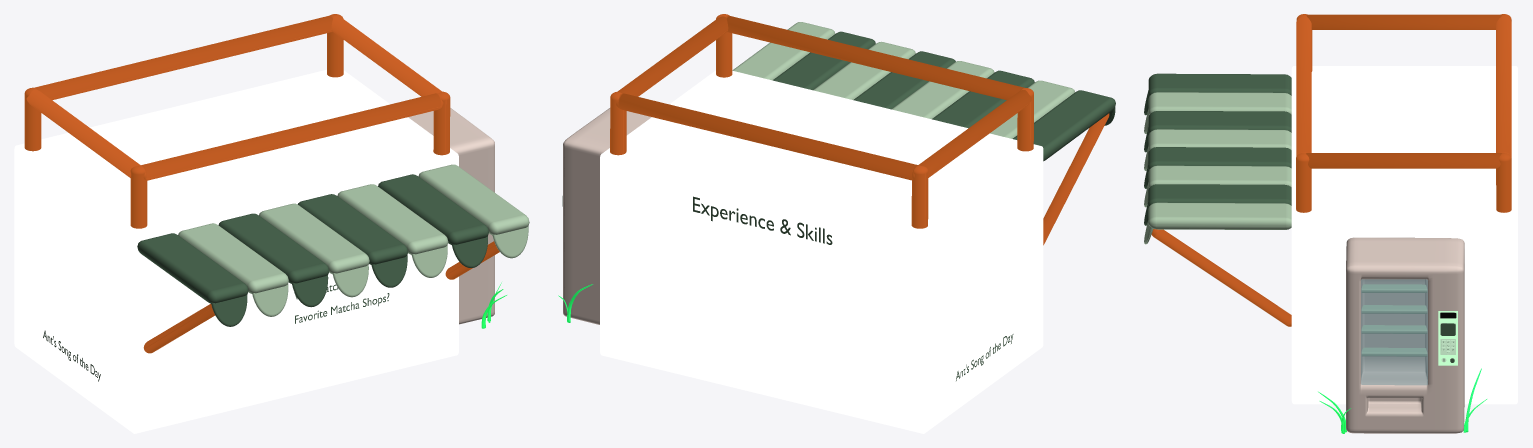
File: MatchaShop.glb
3 views of the same model, side by side, from view 1: azimuth 30°, elevation 25°; view 2: azimuth 150°, elevation 25°; view 3: azimuth 270°, elevation 25° (orthographic). The views are drawn at different scales.
Parts seen in each view (by area): view 1: Cube_6, Cylinder_14.005, Cylinder_14.006, Vending_machine_base, Cube_3, Cube_5, Cube_5_1, Cube_5_3, Cube_2, Cube_4, Cube_4_1, Cube_5_2 (+15 smaller); view 2: Cube_6, Vending_machine_base, Cylinder_14.006, Cylinder_14.005, Cube_3, Cylinder_14.007, Cylinder_14.008, Cube_5, Cube_5_1, Cube_4_1, Cube_5_3, Cube_5_2 (+8 smaller); view 3: Cube_6, Vending_machine_base, Window, Cube_5_1, Cylinder_14.008, Cylinder_14.007, Cube_5, Cube_2, Cube_5_2, Cube_5_3, Cube_3, Cube_4 (+11 smaller).
Boxes of the visible parts, bbox=[...] form: Cube_6: bbox=[14, 69, 458, 433]; Cylinder_14.005: bbox=[141, 93, 443, 180]; Cylinder_14.006: bbox=[34, 15, 333, 100]; Vending_machine_base: bbox=[408, 108, 494, 324]; Cube_3: bbox=[137, 233, 248, 303]; Cube_5: bbox=[378, 174, 488, 244]; Cube_5_1: bbox=[418, 164, 529, 234]; Cube_5_3: bbox=[337, 184, 448, 254]; Cube_2: bbox=[178, 223, 288, 293]; Cube_4: bbox=[218, 213, 329, 283]; Cube_4_1: bbox=[259, 203, 369, 273]; Cube_5_2: bbox=[297, 194, 408, 264]; Cube_6: bbox=[600, 70, 1043, 433]; Vending_machine_base: bbox=[563, 108, 651, 324]; Cylinder_14.006: bbox=[616, 93, 918, 180]; Cylinder_14.005: bbox=[726, 15, 1024, 100]; Cube_3: bbox=[1013, 90, 1115, 161]; Cylinder_14.007: bbox=[918, 90, 1032, 177]; Cylinder_14.008: bbox=[618, 16, 728, 96]; Cube_5: bbox=[773, 31, 875, 90]; Cube_5_1: bbox=[732, 22, 835, 80]; Cube_4_1: bbox=[891, 61, 994, 119]; Cube_5_3: bbox=[813, 41, 915, 99]; Cube_5_2: bbox=[853, 51, 955, 109]; Cube_6: bbox=[1291, 66, 1517, 404]; Vending_machine_base: bbox=[1346, 237, 1464, 433]; Window: bbox=[1361, 279, 1427, 385]; Cube_5_1: bbox=[1148, 202, 1291, 229]; Cylinder_14.008: bbox=[1305, 153, 1501, 168]; Cylinder_14.007: bbox=[1306, 14, 1501, 29]; Cube_5: bbox=[1148, 184, 1291, 206]; Cube_2: bbox=[1148, 92, 1291, 114]; Cube_5_2: bbox=[1148, 147, 1291, 169]; Cube_5_3: bbox=[1148, 165, 1291, 187]; Cube_3: bbox=[1148, 73, 1291, 95]; Cube_4: bbox=[1148, 111, 1291, 132].
Size of what is drawn, in the model's own units: 4.5 by 2.84 by 3.86.
